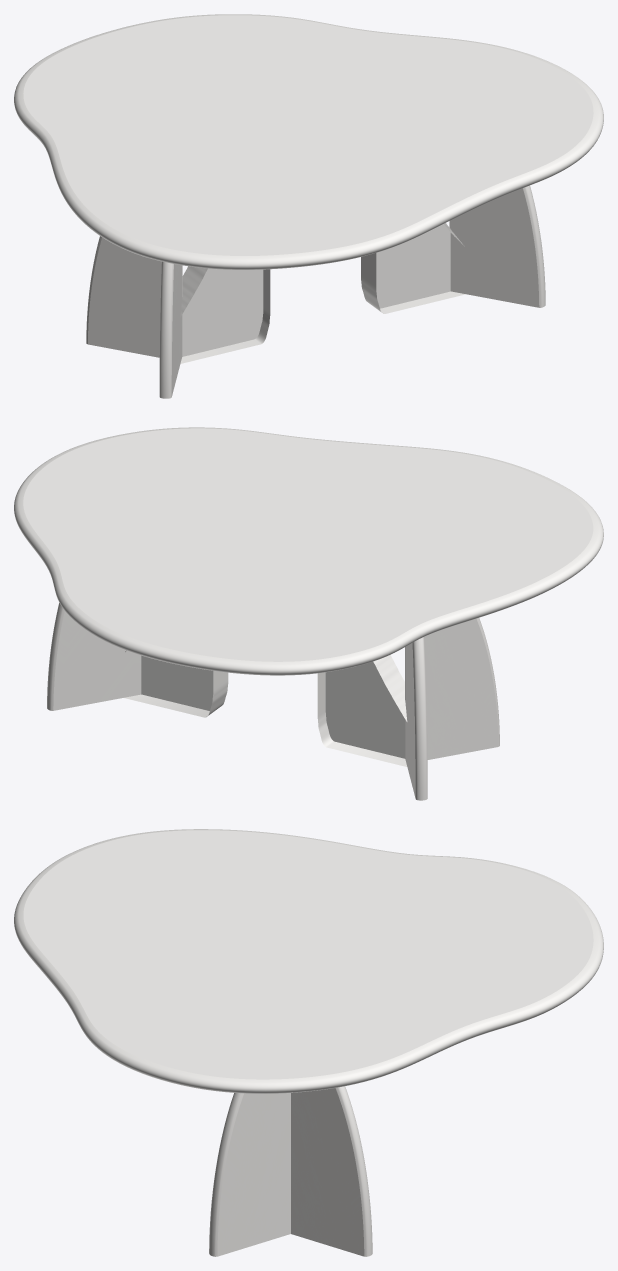
Rendered from purewhite_topone_round_plane.glb.
3 renders of one model, top to bottom at view 1: azimuth 30°, elevation 25°; view 2: azimuth 150°, elevation 25°; view 3: azimuth 270°, elevation 25°, orthographic. The views are drawn at different scales.
Parts seen in each view (by area): view 1: round_topone, plane_singleright2, plane_single1, plane_singleleft1, plane_single2, plane_singleright1; view 2: round_topone, plane_singleright1, plane_single1, plane_singleleft2, plane_single2, plane_singleleft1; view 3: round_topone, plane_singleleft2, plane_singleright2.
Part boxes in pixels (x1=…): round_topone: x1=14, y1=14, x2=603, y2=269; plane_singleright2: x1=449, y1=185, x2=545, y2=307; plane_single1: x1=180, y1=266, x2=270, y2=363; plane_singleleft1: x1=86, y1=236, x2=182, y2=357; plane_single2: x1=361, y1=223, x2=465, y2=313; plane_singleright1: x1=159, y1=261, x2=182, y2=398; round_topone: x1=14, y1=427, x2=603, y2=675; plane_singleright1: x1=405, y1=618, x2=499, y2=759; plane_single1: x1=317, y1=655, x2=407, y2=766; plane_singleleft2: x1=47, y1=603, x2=141, y2=710; plane_single2: x1=124, y1=650, x2=228, y2=717; plane_singleleft1: x1=405, y1=637, x2=427, y2=800; round_topone: x1=14, y1=829, x2=603, y2=1093; plane_singleleft2: x1=291, y1=1086, x2=372, y2=1256; plane_singleright2: x1=209, y1=1093, x2=290, y2=1256.
Bounding box in the file's own units: 6.83 × 2.49 × 6.6.
Materials: 1 (1 with a texture image).
